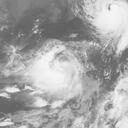cyclone: (35, 46, 84, 96), (99, 1, 127, 41)
